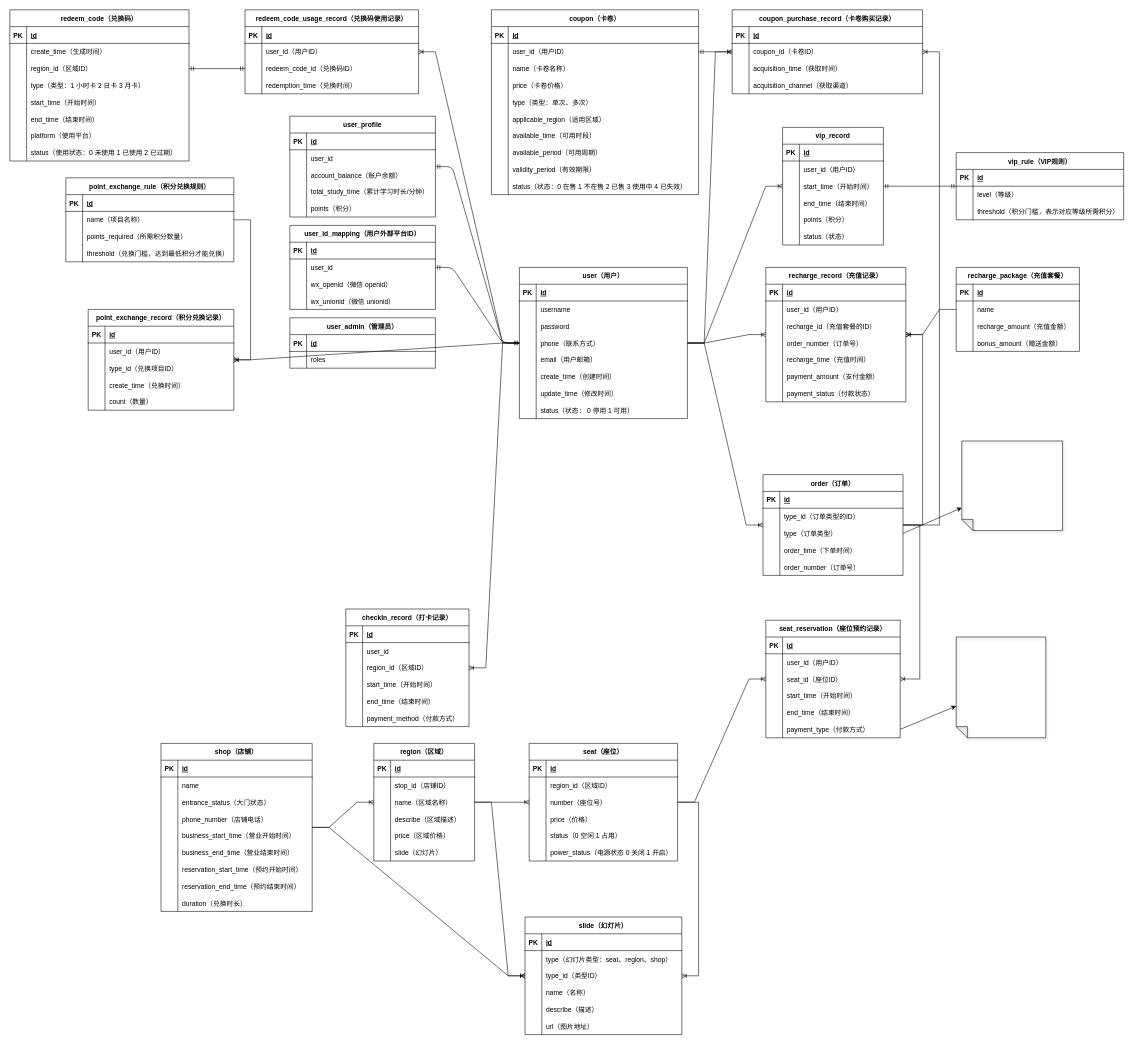
The diagram is 1133 pixels wide and 1044 high, and some of its shapes have lost their labels. Here are the shapes that lost their labels. From the top down, the centre of each, then its label:
point (1012, 486): coupon_purchase：卡卷购买 recharge：充值 seat_reservation ：座位预约
point (1001, 688): coupon：卡卷兑换 point ：积分兑换 balance ：余额购买 wxpay：微信支付 alipay: 支付宝支付
